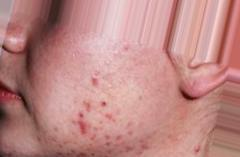Acne: (126, 123, 151, 156), (80, 94, 106, 116), (57, 139, 87, 157), (75, 107, 93, 134), (88, 69, 109, 90), (99, 132, 117, 153)
